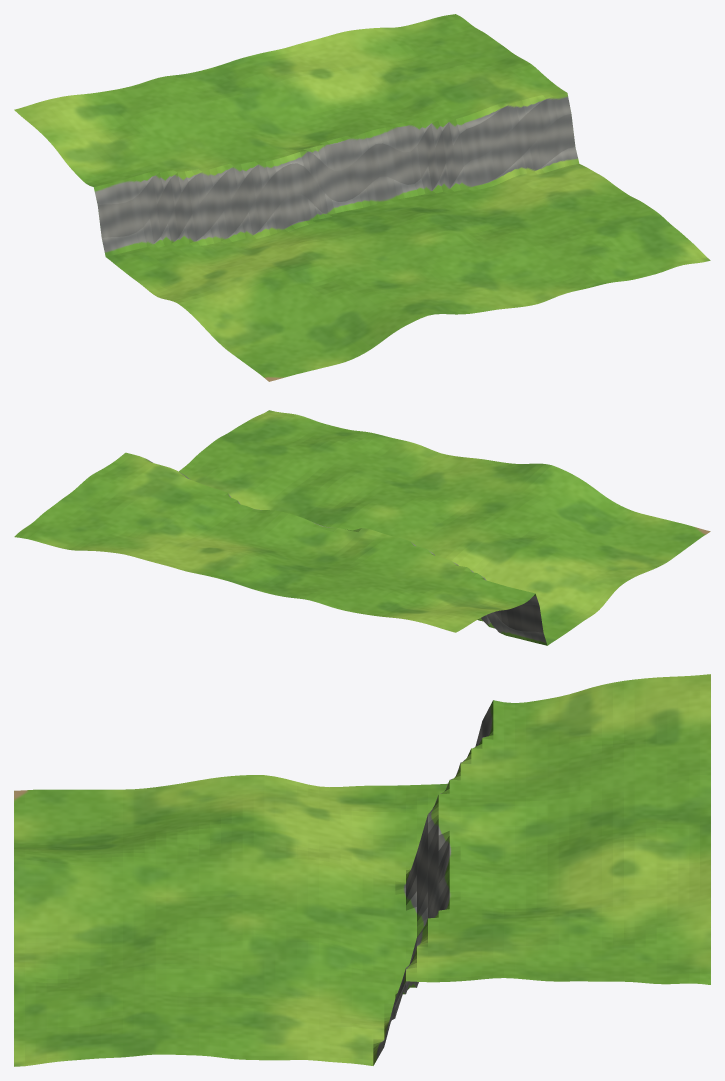
The model's file is chunk_1_1.fbx.
3 renders of one model, top to bottom at view 1: azimuth 30°, elevation 25°; view 2: azimuth 150°, elevation 25°; view 3: azimuth 270°, elevation 25°, orthographic. The views are drawn at different scales.
Parts seen in each view (by area): view 1: chunk_1_1; view 2: chunk_1_1; view 3: chunk_1_1.
Boxes of the visible parts, <box> form: chunk_1_1: <box>14,14,710,381</box>; chunk_1_1: <box>14,410,710,645</box>; chunk_1_1: <box>14,674,710,1066</box>.
Bounding box in the file's own units: 6400 × 6400 × 1205.
1 material, 1 textured.
